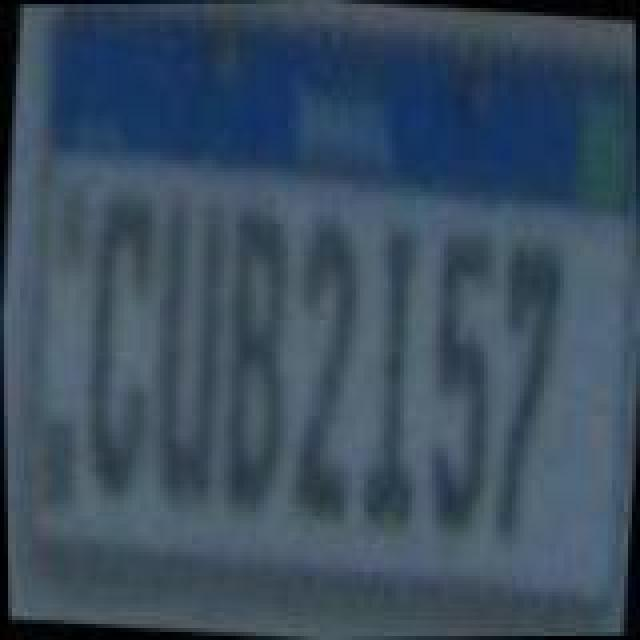2: (282, 216, 378, 536)
5: (414, 224, 506, 540)
7: (482, 234, 574, 550)
B: (210, 200, 306, 524)
C: (74, 190, 170, 506)
I: (352, 224, 440, 540)
U: (138, 186, 234, 514)
